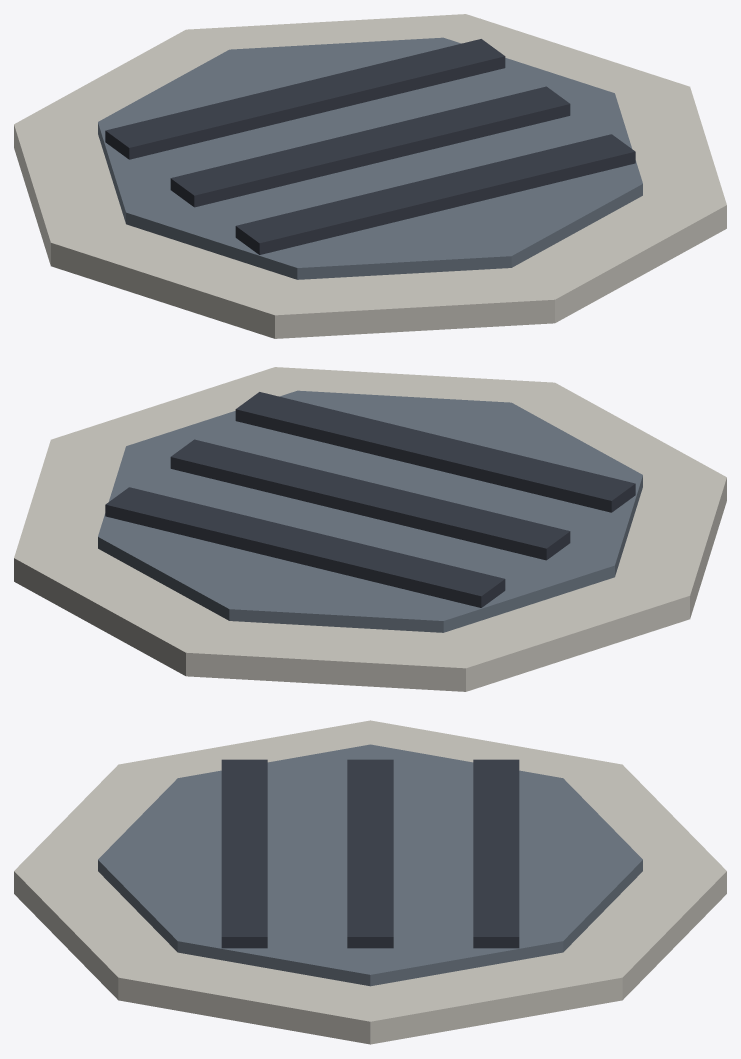
File: bueiro.glb
3 renders of one model, top to bottom at view 1: azimuth 30°, elevation 25°; view 2: azimuth 150°, elevation 25°; view 3: azimuth 270°, elevation 25°, orthographic. The views are drawn at different scales.
Visible parts, largest first — view 1: corpo; view 2: corpo; view 3: corpo.
Boxes of the visible parts, x1,y1,x2,y2 form: corpo: (14, 14, 726, 338); corpo: (14, 367, 726, 691); corpo: (14, 720, 726, 1044).
Bounding box in the file's own units: 0.34 × 0.024 × 0.34.
